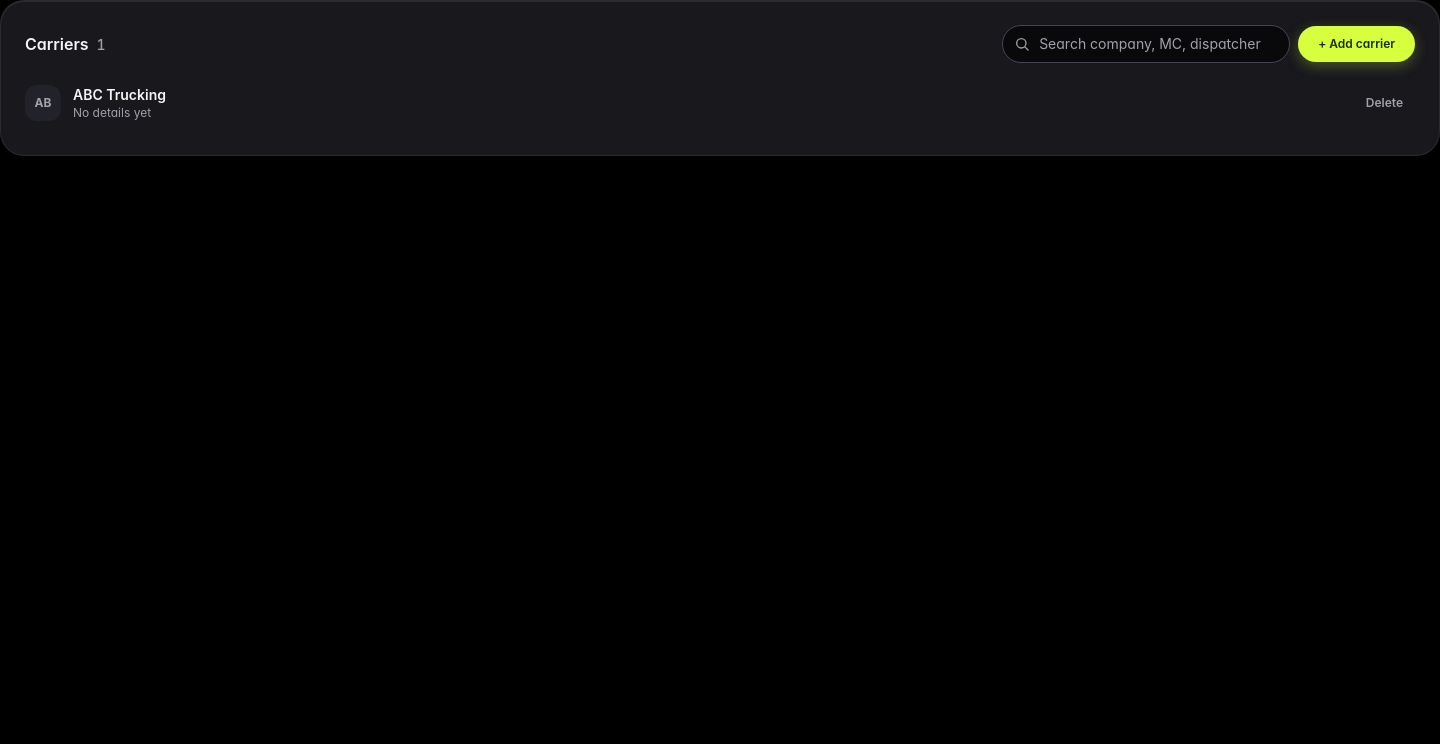
CarriersPanel › the detail sheet's Edit button opens the edit sheet
Click the text "ABC Trucking" at (120, 95), box [73, 85, 166, 105]
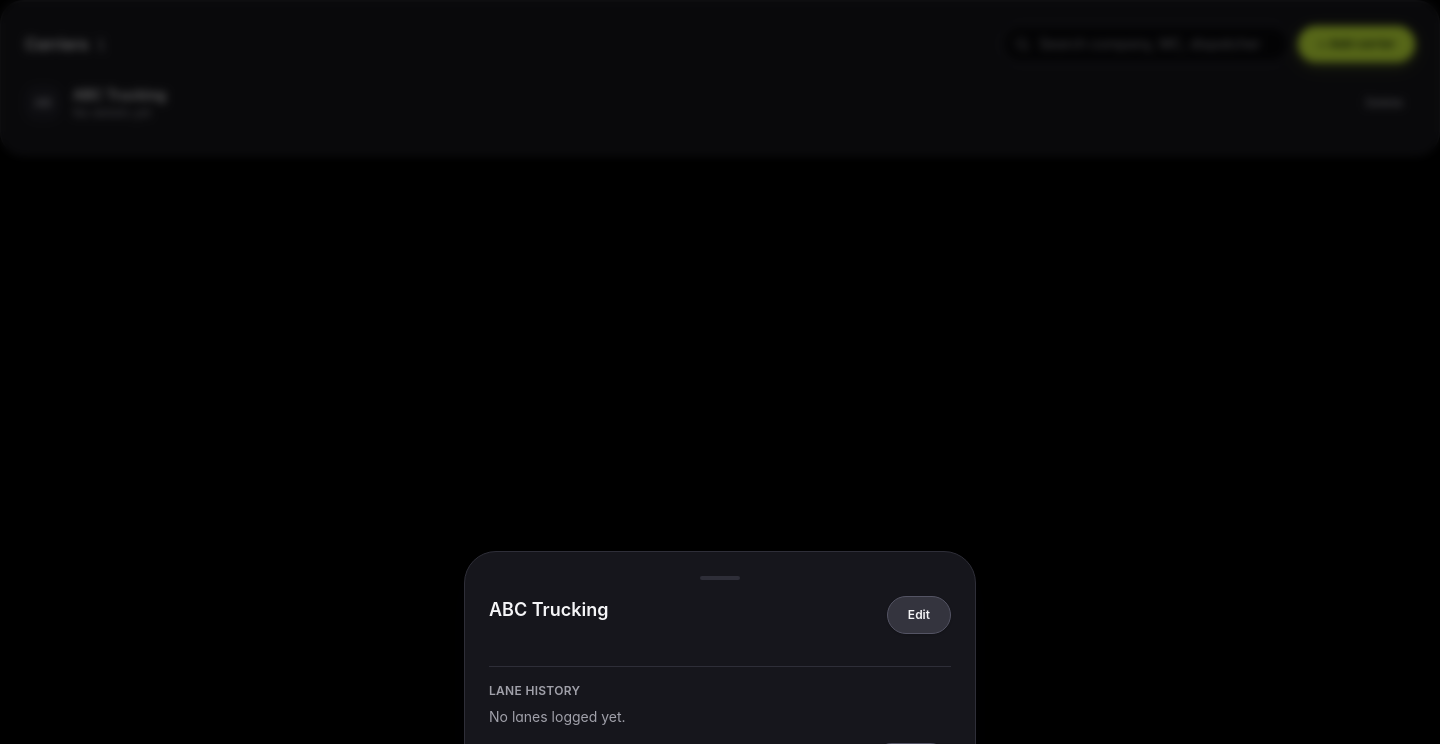
Now the button "Edit" is shown
Click the button "Edit" at (919, 615), box [887, 596, 951, 634]
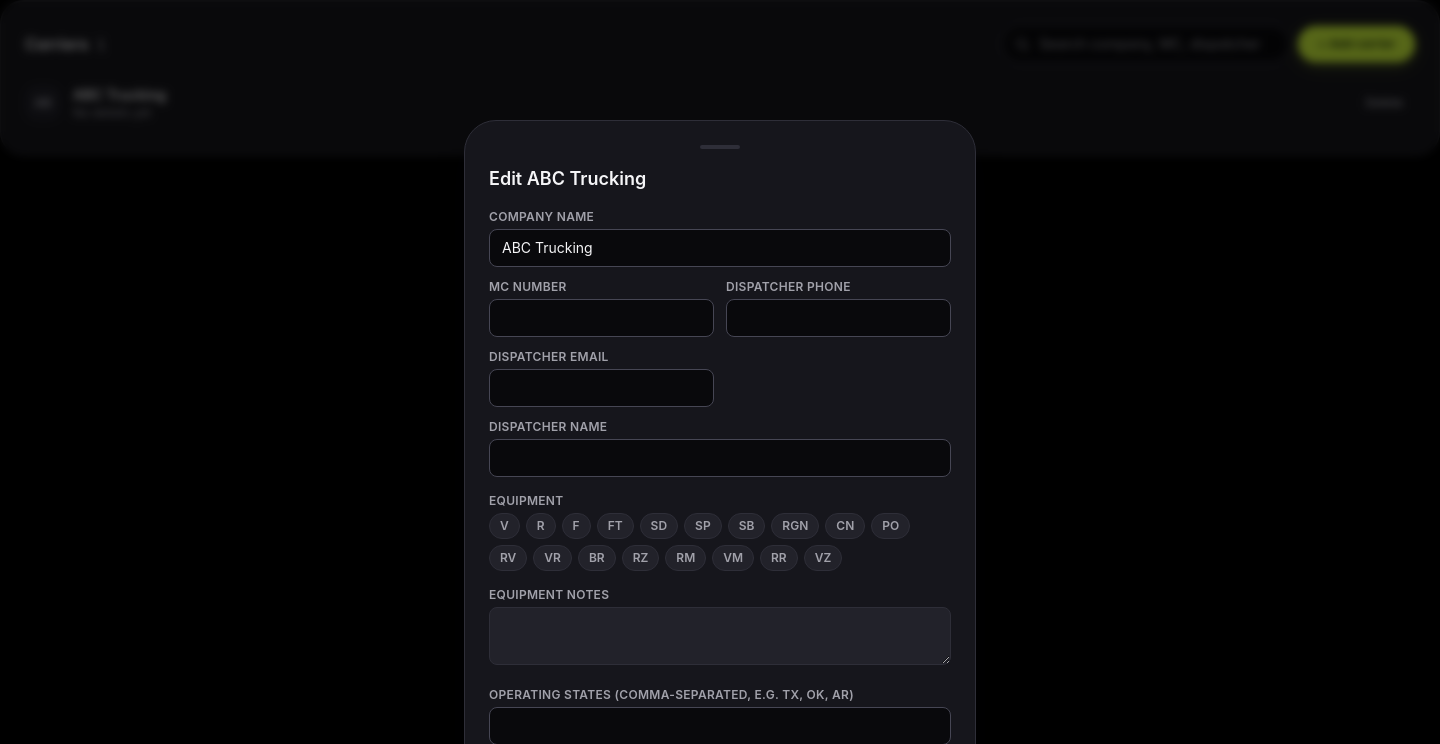
Now the heading "Edit ABC Trucking" is shown, box [489, 168, 646, 188]
